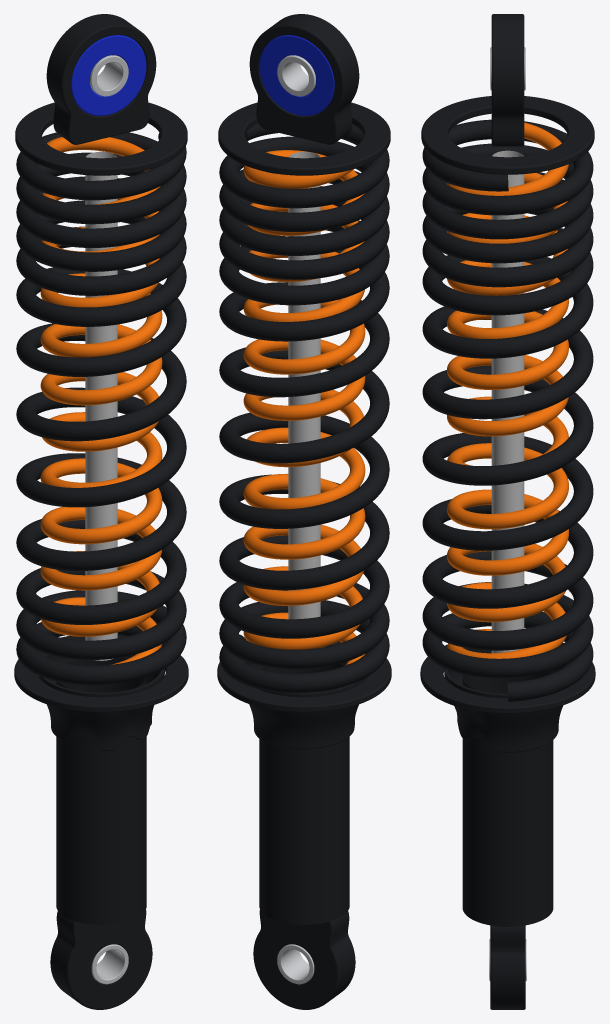
File: rear-sns-rest-assembly-v1.glb
The picture shows the model from 3 angles, left to right: view 1: azimuth 30°, elevation 25°; view 2: azimuth 150°, elevation 25°; view 3: azimuth 270°, elevation 25°; orthographic projection.
Visible parts, largest first — view 1: Related SNS black outer spring - estimated gray study, Related SNS orange inner spring - estimated gray study, Related SNS lower body exterior skin - estimated, SNS opposite black eye and neck exterior - estimated, SNS body-side black eye and neck exterior - estimated, SNS reflective axial shaft exterior - estimated, SNS opposite spring rim - estimated continuation, SNS collar - observed front and estimated back, SNS body-side spring rim - estimated continuation, SNS opposite broadblue annular region - estimated continuati, SNS opposite central sleeve - estimated continuation, SNS body-side central sleeve - estimated continuation; view 2: Related SNS black outer spring - estimated gray study, Related SNS orange inner spring - estimated gray study, Related SNS lower body exterior skin - estimated, SNS opposite black eye and neck exterior - estimated, SNS body-side black eye and neck exterior - estimated, SNS opposite spring rim - estimated continuation, SNS reflective axial shaft exterior - estimated, SNS collar - observed front and estimated back, SNS opposite broadblue annular region - estimated continuati, SNS body-side spring rim - estimated continuation, SNS opposite central sleeve - estimated continuation, SNS body-side central sleeve - estimated continuation; view 3: Related SNS black outer spring - estimated gray study, Related SNS orange inner spring - estimated gray study, Related SNS lower body exterior skin - estimated, SNS opposite spring rim - estimated continuation, SNS reflective axial shaft exterior - estimated, SNS opposite black eye and neck exterior - estimated, SNS collar - observed front and estimated back, SNS body-side spring rim - estimated continuation, SNS body-side black eye and neck exterior - estimated.
Part boxes in pixels (x1,y1,x2,y2): Related SNS black outer spring - estimated gray study: [16, 132, 186, 685]; Related SNS orange inner spring - estimated gray study: [40, 137, 162, 664]; Related SNS lower body exterior skin - estimated: [56, 658, 146, 924]; SNS opposite black eye and neck exterior - estimated: [46, 14, 156, 144]; SNS body-side black eye and neck exterior - estimated: [50, 909, 152, 1009]; SNS reflective axial shaft exterior - estimated: [85, 151, 117, 660]; SNS opposite spring rim - estimated continuation: [15, 102, 187, 175]; SNS collar - observed front and estimated back: [38, 654, 164, 751]; SNS body-side spring rim - estimated continuation: [14, 635, 188, 712]; SNS opposite broadblue annular region - estimated continuati: [71, 35, 146, 115]; SNS opposite central sleeve - estimated continuation: [90, 55, 128, 96]; SNS body-side central sleeve - estimated continuation: [91, 944, 128, 984]; Related SNS black outer spring - estimated gray study: [219, 123, 389, 693]; Related SNS orange inner spring - estimated gray study: [243, 150, 365, 665]; Related SNS lower body exterior skin - estimated: [259, 663, 349, 924]; SNS opposite black eye and neck exterior - estimated: [249, 14, 359, 144]; SNS body-side black eye and neck exterior - estimated: [253, 909, 355, 1009]; SNS opposite spring rim - estimated continuation: [218, 102, 390, 175]; SNS reflective axial shaft exterior - estimated: [288, 151, 320, 619]; SNS collar - observed front and estimated back: [242, 643, 366, 749]; SNS opposite broadblue annular region - estimated continuati: [259, 35, 334, 115]; SNS body-side spring rim - estimated continuation: [217, 641, 391, 712]; SNS opposite central sleeve - estimated continuation: [277, 55, 315, 96]; SNS body-side central sleeve - estimated continuation: [277, 944, 314, 984]; Related SNS black outer spring - estimated gray study: [422, 119, 593, 701]; Related SNS orange inner spring - estimated gray study: [447, 122, 568, 658]; Related SNS lower body exterior skin - estimated: [462, 671, 553, 926]; SNS opposite spring rim - estimated continuation: [421, 96, 594, 174]; SNS reflective axial shaft exterior - estimated: [491, 150, 524, 653]; SNS opposite black eye and neck exterior - estimated: [491, 14, 524, 146]; SNS collar - observed front and estimated back: [444, 648, 568, 752]; SNS body-side spring rim - estimated continuation: [420, 642, 595, 713]; SNS body-side black eye and neck exterior - estimated: [490, 925, 525, 1009].
Size of the model in its own units: 0.059 by 0.3668 by 0.059.
